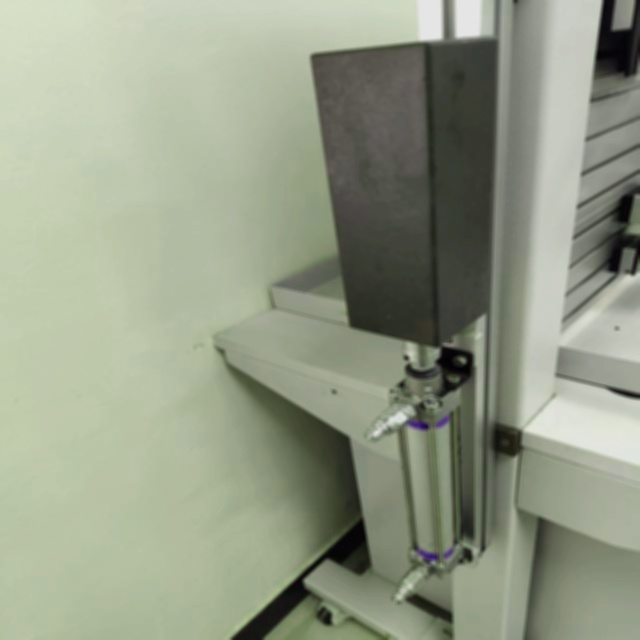load: (287, 18, 558, 617)
